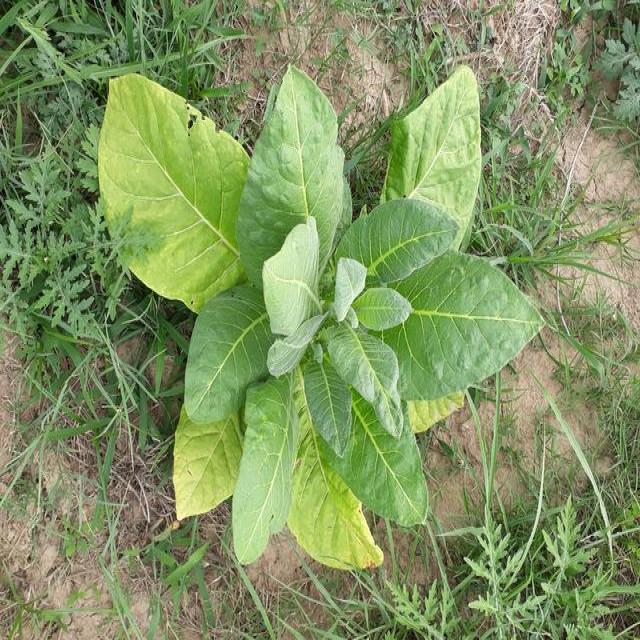crop: (106, 60, 534, 571)
